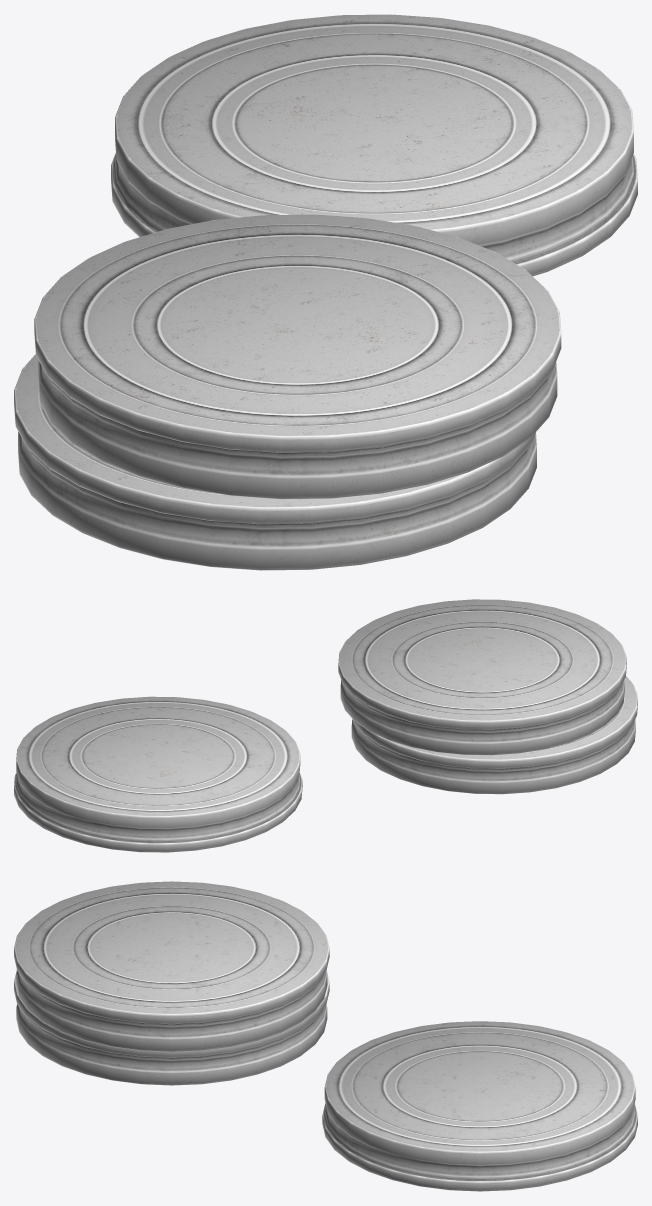
File: B1M1_8mmFilm_GEO.fbx
3 renders of one model, top to bottom at view 1: azimuth 30°, elevation 25°; view 2: azimuth 150°, elevation 25°; view 3: azimuth 270°, elevation 25°, orthographic. The views are drawn at different scales.
Parts seen in each view (by area): view 1: B1M1_8mmFilm; view 2: B1M1_8mmFilm; view 3: B1M1_8mmFilm.
Part boxes in pixels (box(x1,y1,x2,y2)): B1M1_8mmFilm: box(14, 14, 637, 570); B1M1_8mmFilm: box(14, 599, 637, 852); B1M1_8mmFilm: box(14, 881, 637, 1191).
Bounding box in the file's own units: 43.58 × 6.86 × 48.52.
